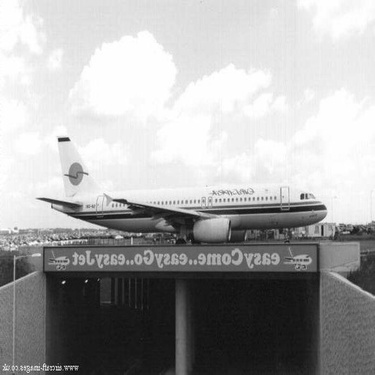airplane: (19, 110, 345, 266)
